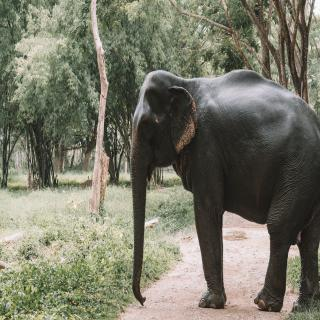Elephant: (123, 58, 320, 320)
